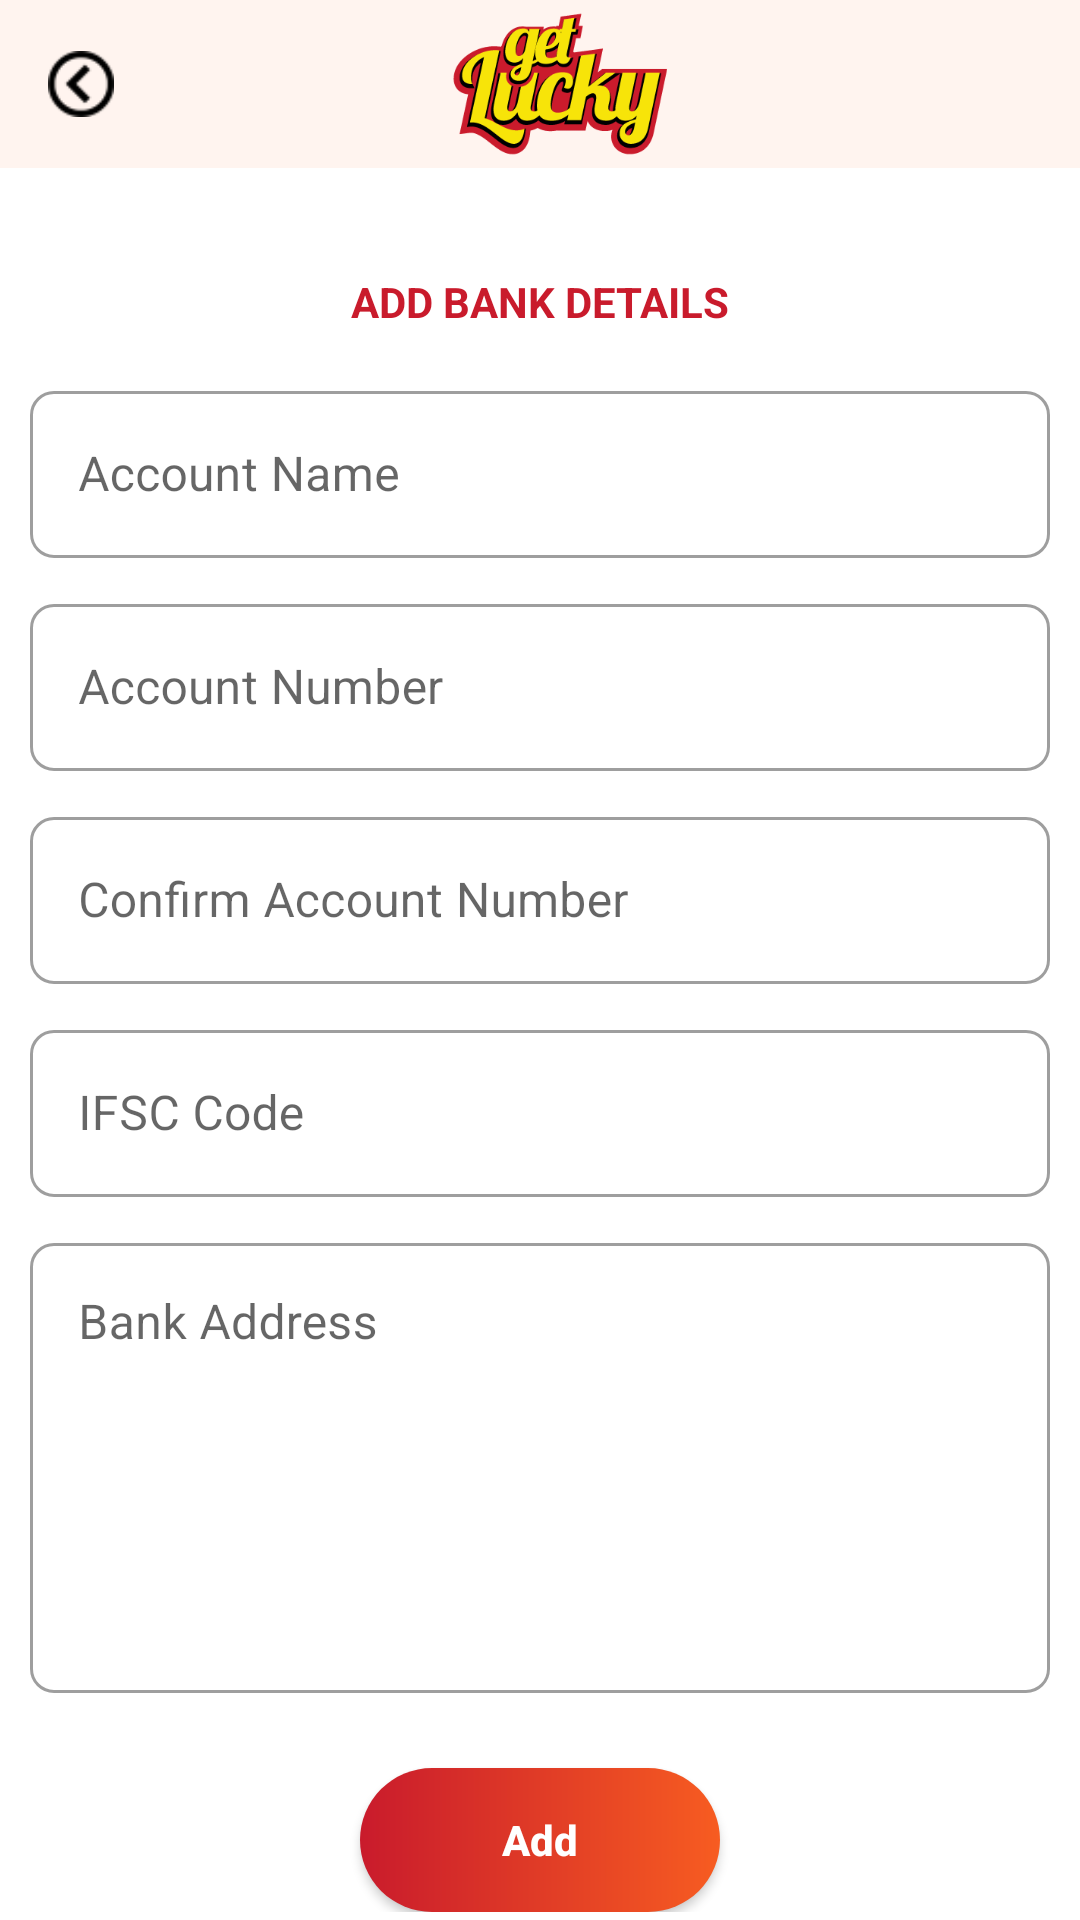

Named icons in this screenshot (1080 × 1920) and their bounding boxes, (x1, y1, x2, y2):
back: (48, 51, 114, 117)
